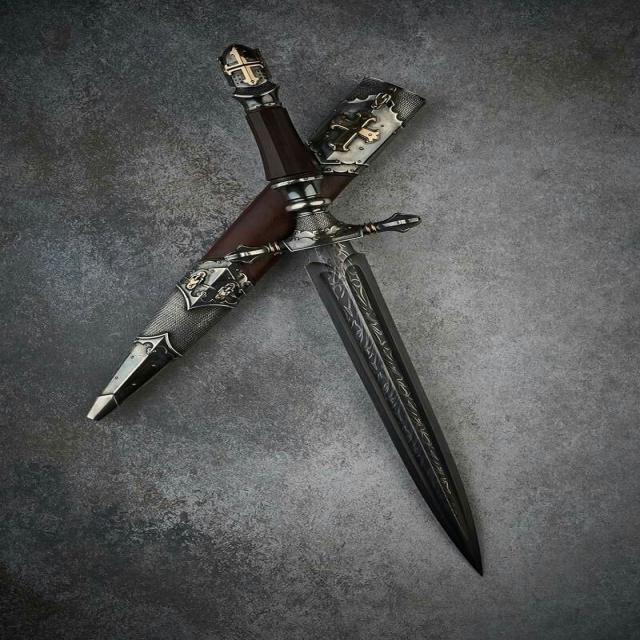short sword: (76, 29, 529, 602)
